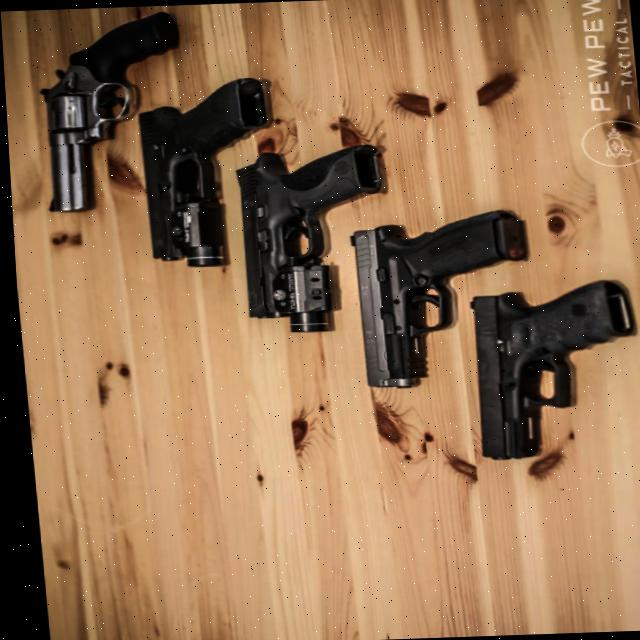pistol: (339, 209, 538, 389), (21, 11, 197, 214), (455, 277, 640, 462), (226, 142, 396, 334), (129, 75, 281, 270)
